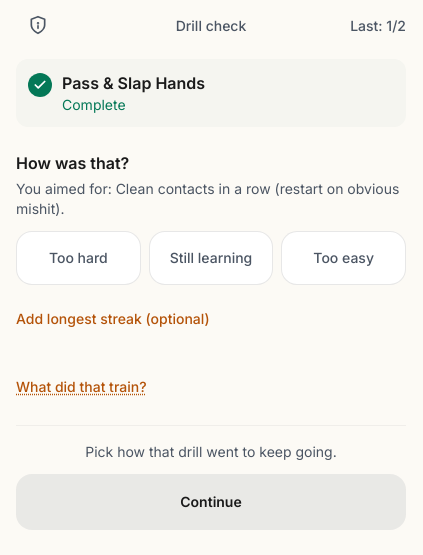
it: DrillCheckScreen rung reflection (D177) › reveals the authored rung reflection one-way and moves focus to it
Expected: the element with test id "per-drill-capture" is shown, x1=16 y1=151 x2=406 y2=341
Click the button with test id "drill-check-reflection-trigger".
click(81, 387)  # box x1=16 y1=365 x2=146 y2=409
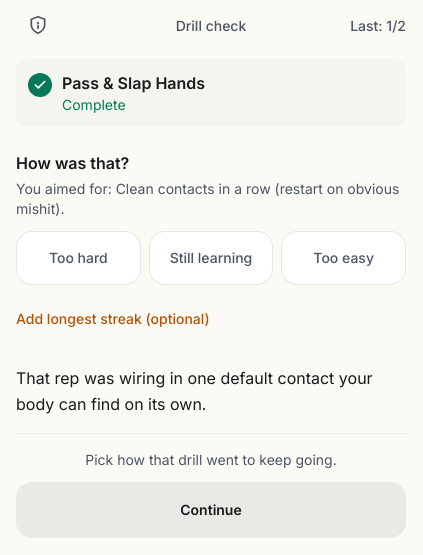
Expected: the text with test id "drill-check-reflection" reads "That rep was wiring in one default contact your body can find on its own.", x1=16 y1=368 x2=373 y2=414
Expected: the button with test id "drill-check-reflection-trigger" is gone
